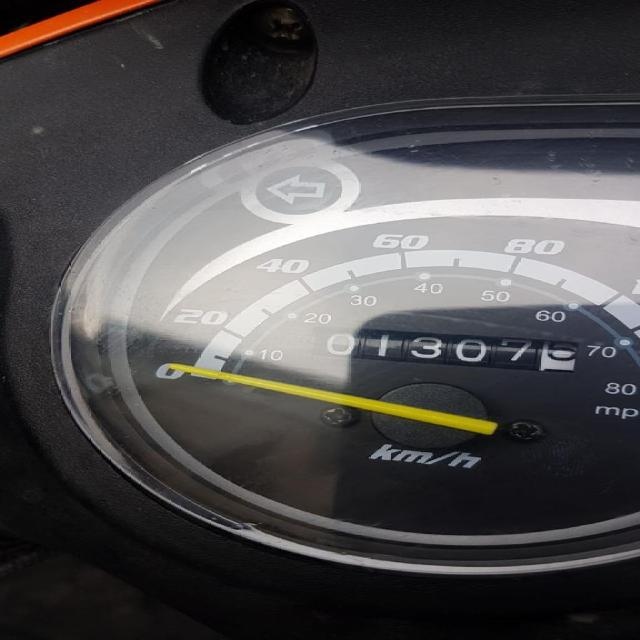odometer: (303, 322, 581, 374)
